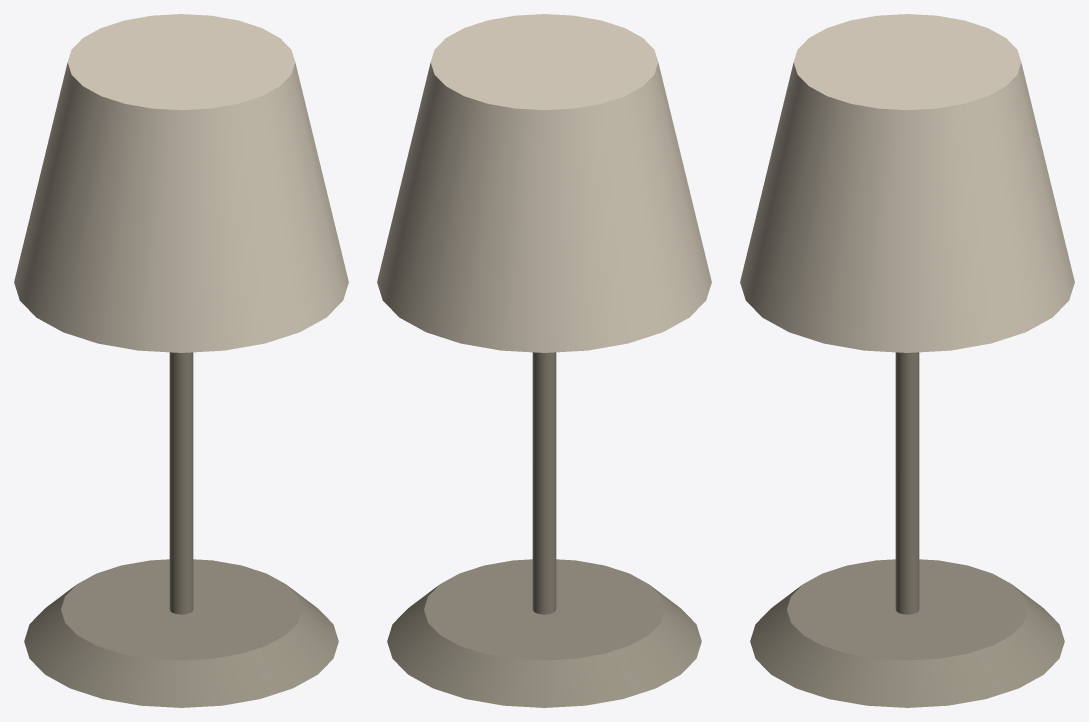
Rendered from bedsideLamp.glb.
3 views of the same model, side by side, from view 1: azimuth 30°, elevation 25°; view 2: azimuth 150°, elevation 25°; view 3: azimuth 270°, elevation 25° (orthographic).
Parts seen in each view (by area): view 1: bedsideLamp-part-3, bedsideLamp-part-1, bedsideLamp-part-2; view 2: bedsideLamp-part-3, bedsideLamp-part-1, bedsideLamp-part-2; view 3: bedsideLamp-part-3, bedsideLamp-part-1, bedsideLamp-part-2.
Boxes of the visible parts, x1=… form: bedsideLamp-part-3: x1=14, y1=14, x2=348, y2=352; bedsideLamp-part-1: x1=24, y1=559, x2=338, y2=707; bedsideLamp-part-2: x1=169, y1=352, x2=193, y2=614; bedsideLamp-part-3: x1=377, y1=14, x2=711, y2=352; bedsideLamp-part-1: x1=387, y1=559, x2=701, y2=707; bedsideLamp-part-2: x1=532, y1=352, x2=556, y2=614; bedsideLamp-part-3: x1=740, y1=14, x2=1074, y2=352; bedsideLamp-part-1: x1=750, y1=559, x2=1064, y2=707; bedsideLamp-part-2: x1=895, y1=352, x2=919, y2=614.
Bounding box in the file's own units: 0.22 × 0.42 × 0.22.
